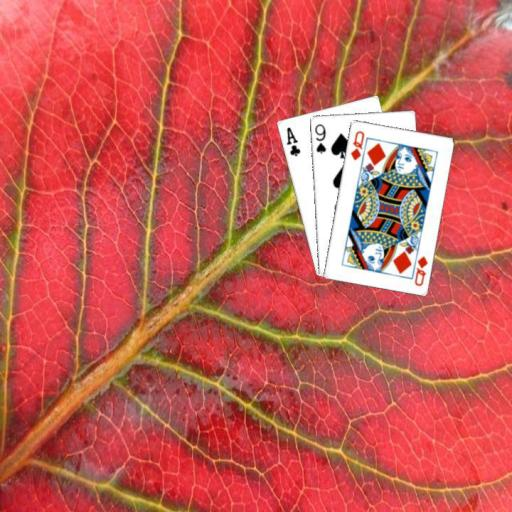9S: (312, 120, 327, 155)
AC: (283, 124, 302, 157)
QD: (347, 128, 366, 162), (411, 253, 429, 288)
